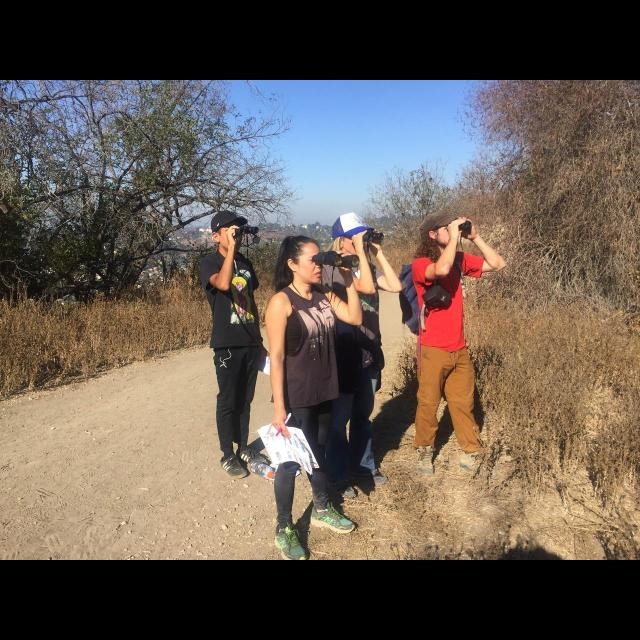head: (285, 236, 323, 284), (332, 218, 368, 256), (422, 212, 460, 248), (212, 214, 244, 254)
person: (394, 207, 510, 479), (310, 209, 406, 501), (198, 207, 278, 481)
